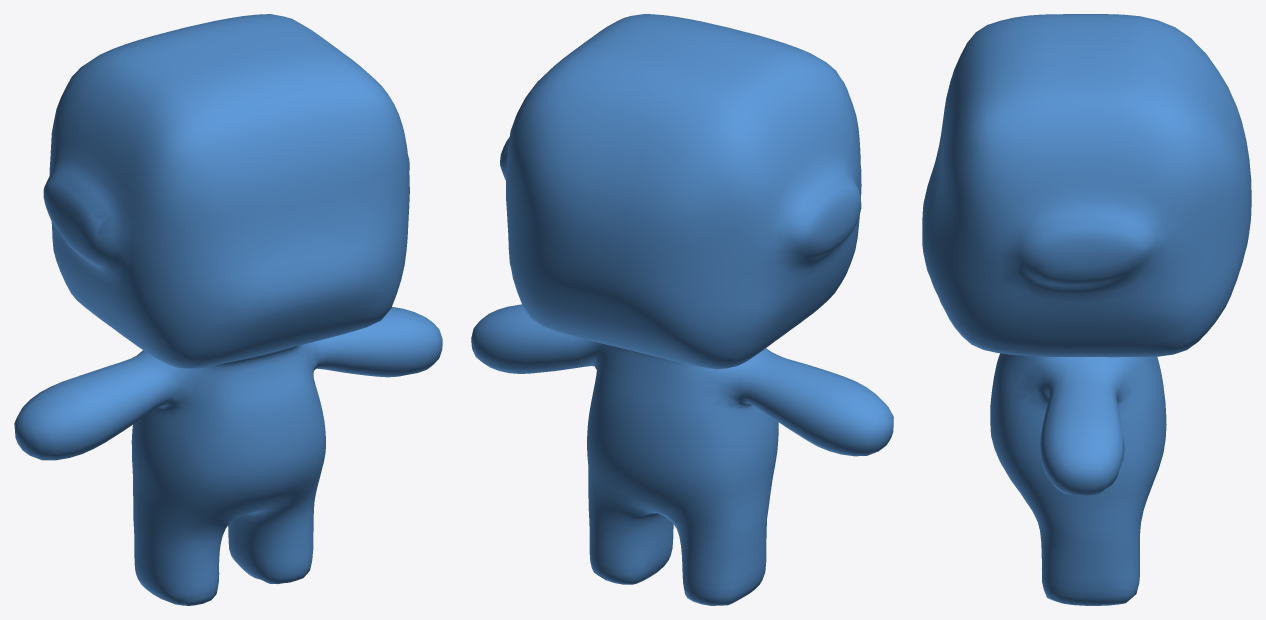
The model's file is StickMan 07.fbx.
3 renders of one model, left to right at view 1: azimuth 30°, elevation 25°; view 2: azimuth 150°, elevation 25°; view 3: azimuth 270°, elevation 25°, orthographic.
Parts seen in each view (by area): view 1: Character; view 2: Character; view 3: Character.
Part boxes in pixels (box(x1,y1,x2,y2)): Character: box(14, 14, 442, 605); Character: box(471, 14, 893, 605); Character: box(922, 14, 1251, 605).
Bounding box in the file's own units: 65 × 80 × 45.
